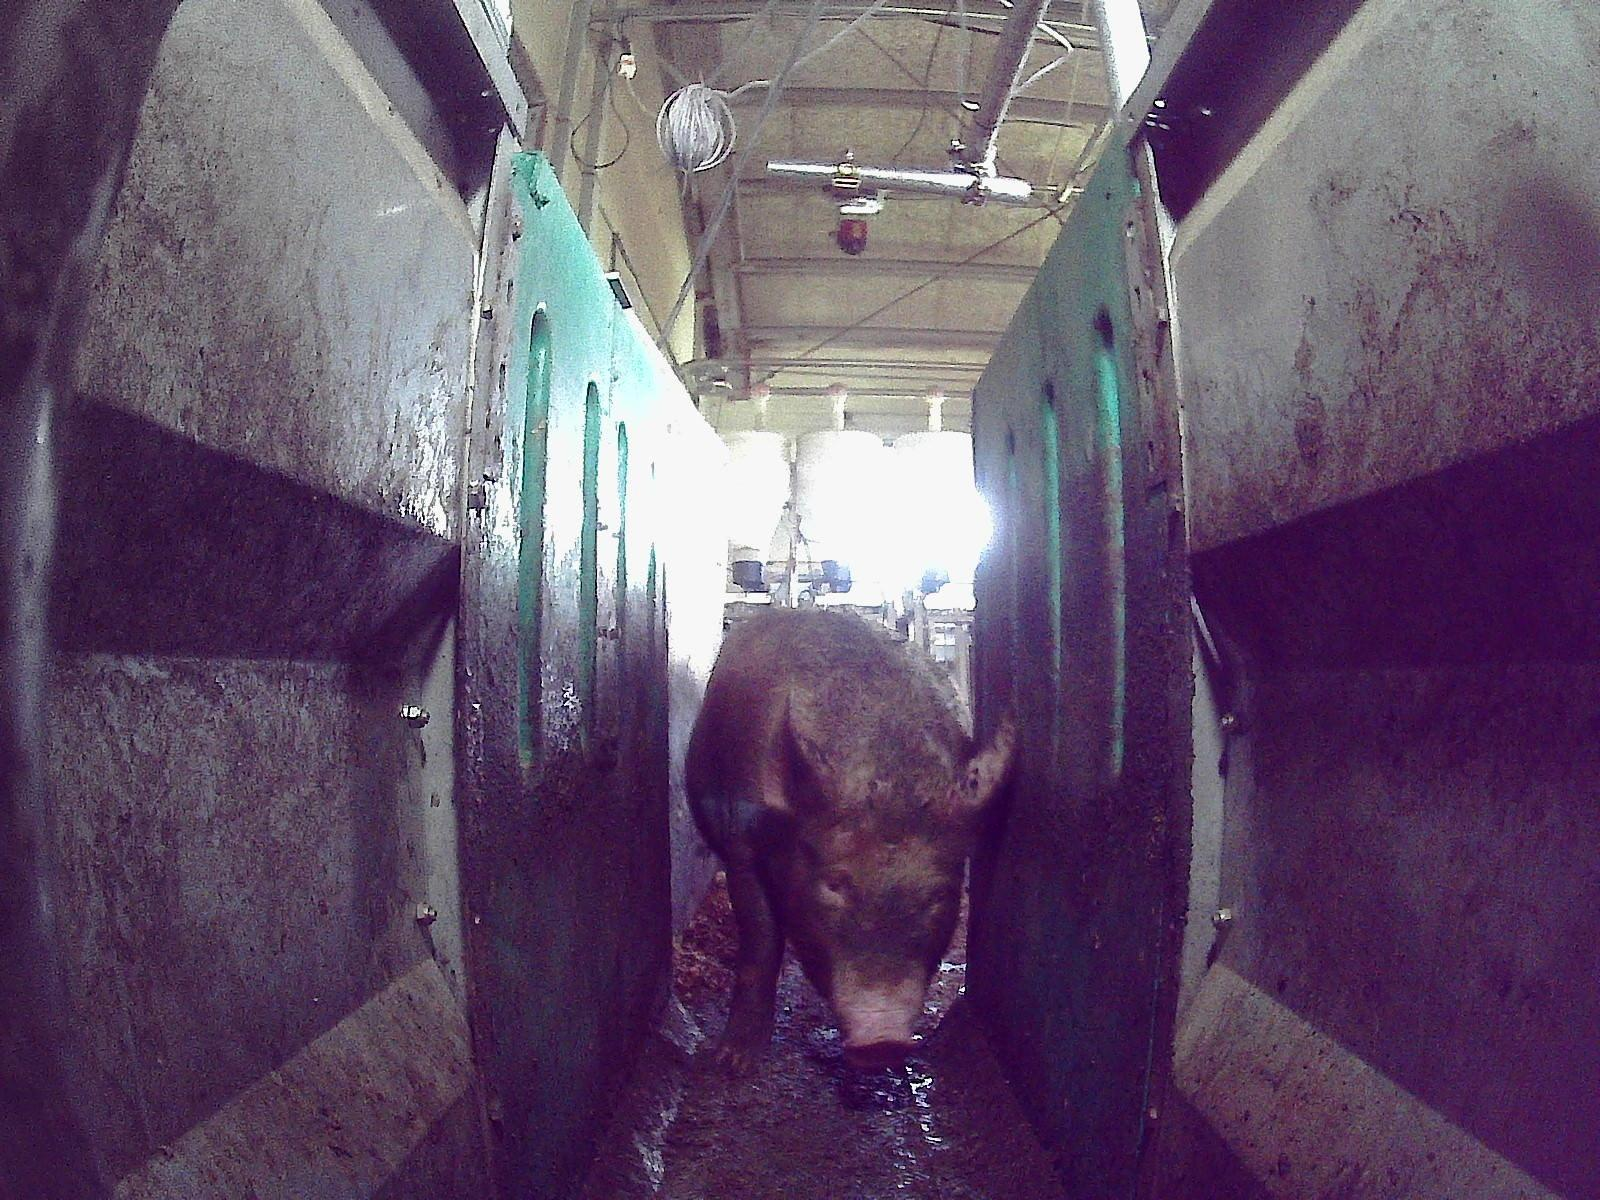Face: (792, 788, 965, 1069)
